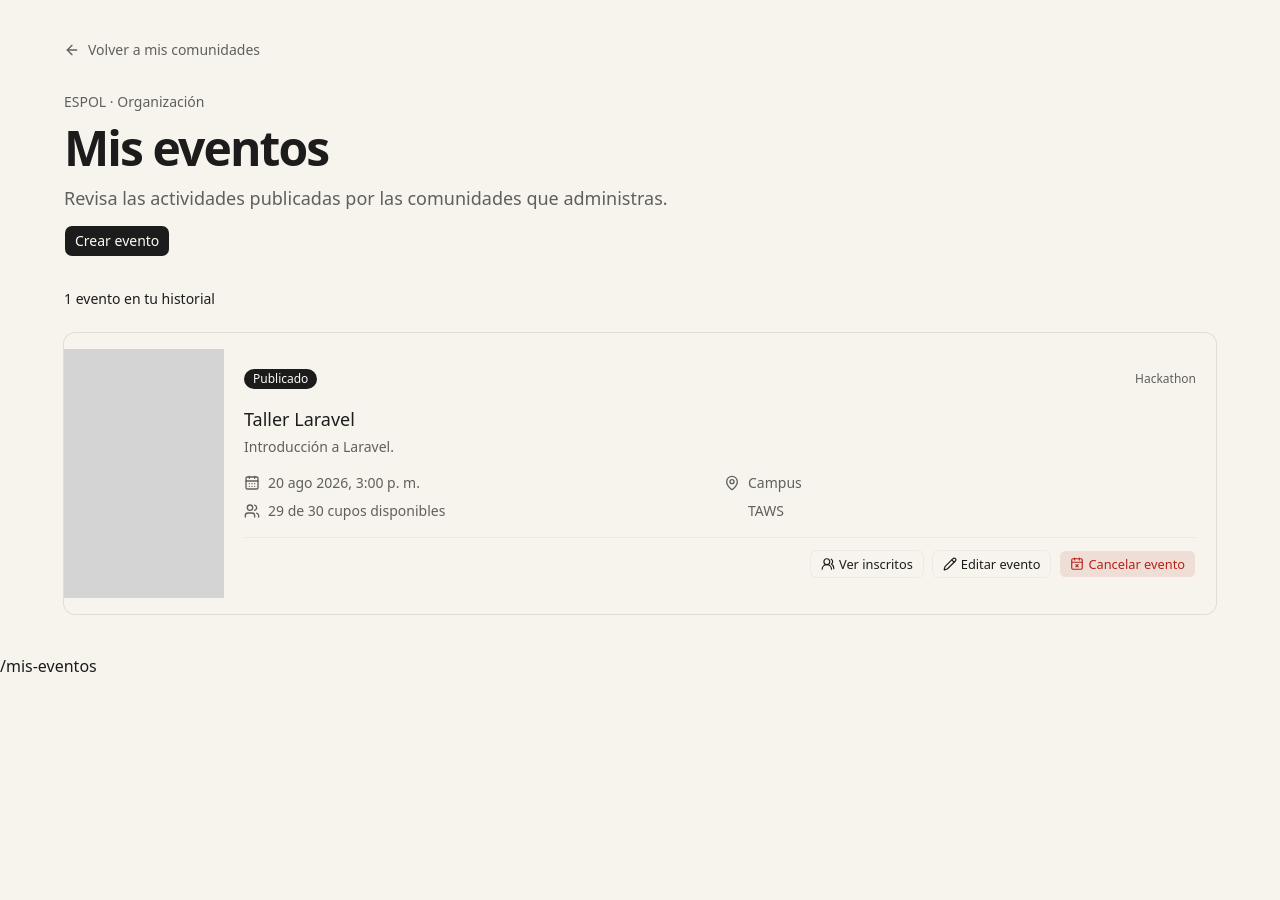
Test: organizer events page › requires confirmation and refreshes the history after cancelling an event
Expected: the link "Taller Laravel" is shown, [244,407,355,431]
Click the button with aria-label "Cancelar evento Taller Laravel" at [1128, 564], box [1059,550,1196,578]
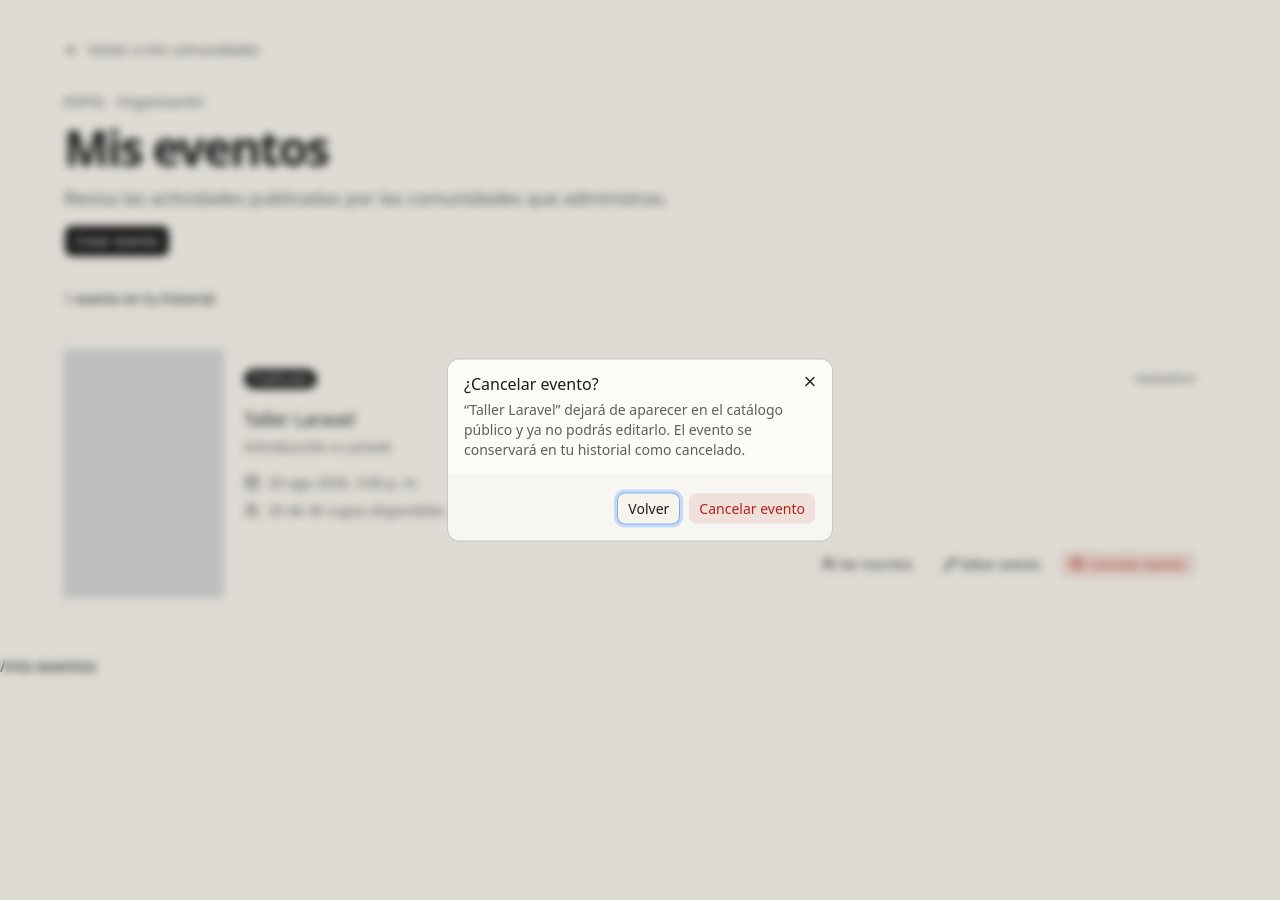
Expected: the text "“Taller Laravel” dejará de aparecer en el catálogo público y ya no podrás editarlo. El evento se conservará en tu histor" is shown, [464,400,816,460]
Click the button "Cancelar evento" at [752, 508], box [688,492,816,524]
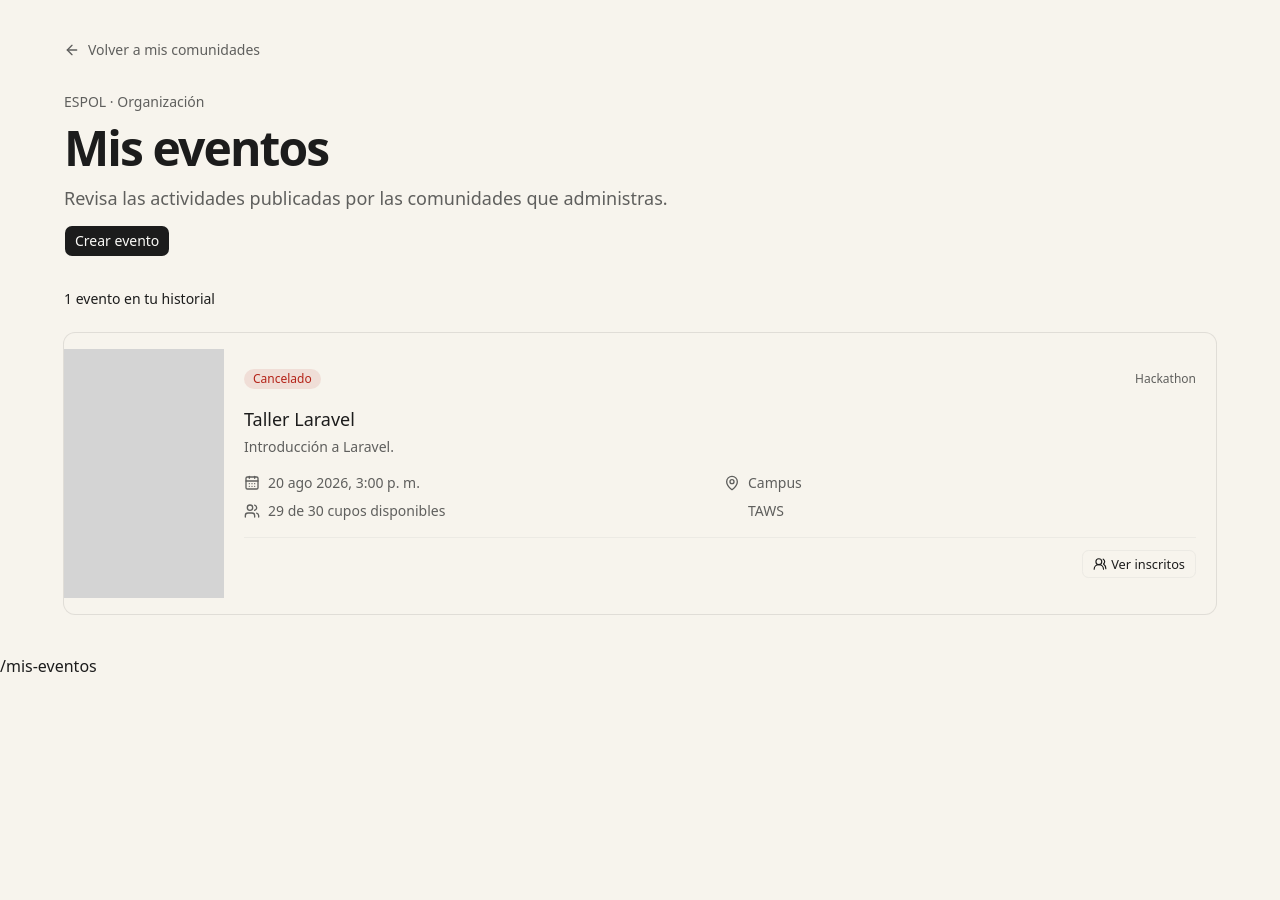
Expected: the text "Cancelado" is shown, [244,369,321,389]
